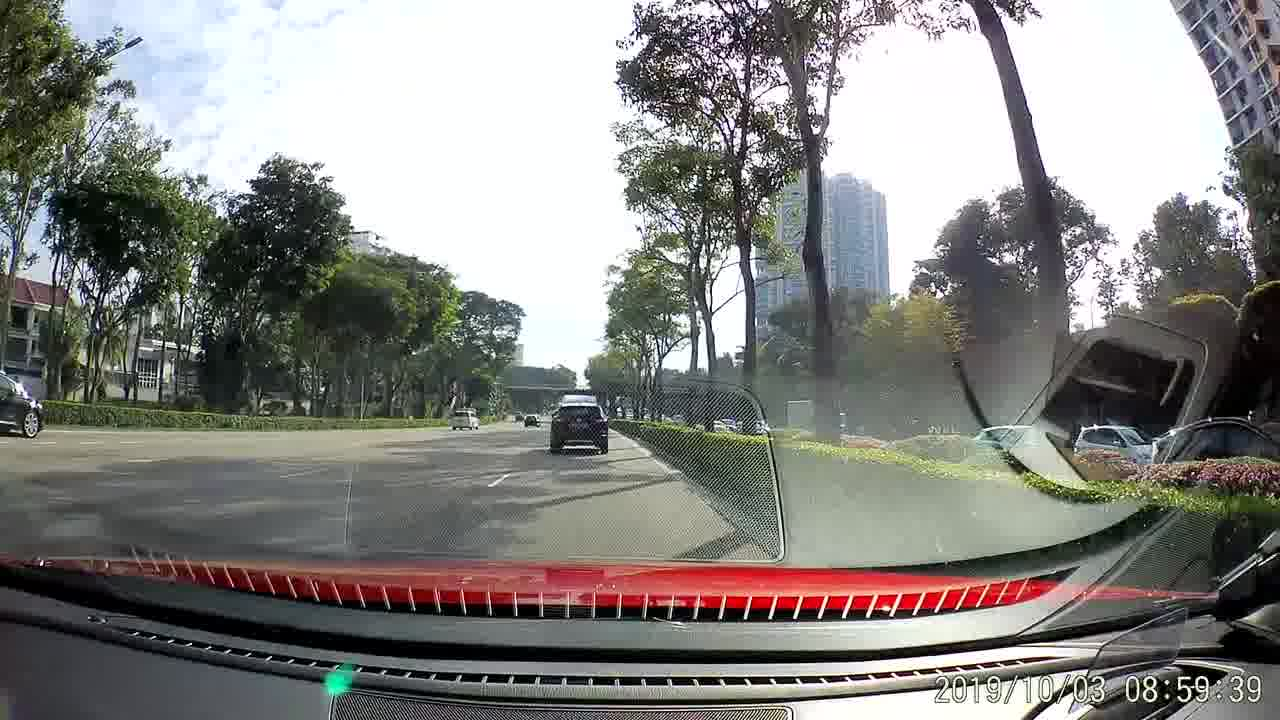car: (1152, 416, 1277, 460), (1068, 418, 1154, 464), (550, 401, 613, 458), (0, 365, 47, 438), (451, 407, 483, 431), (524, 415, 541, 430)
